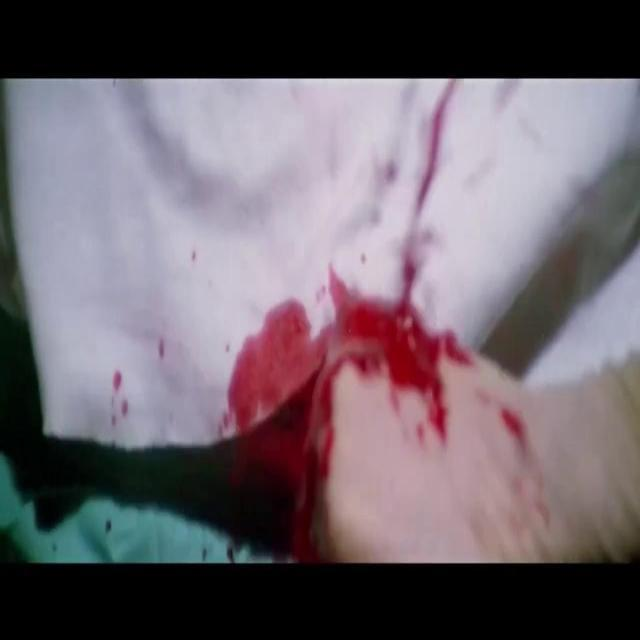flood: (209, 250, 451, 524)
